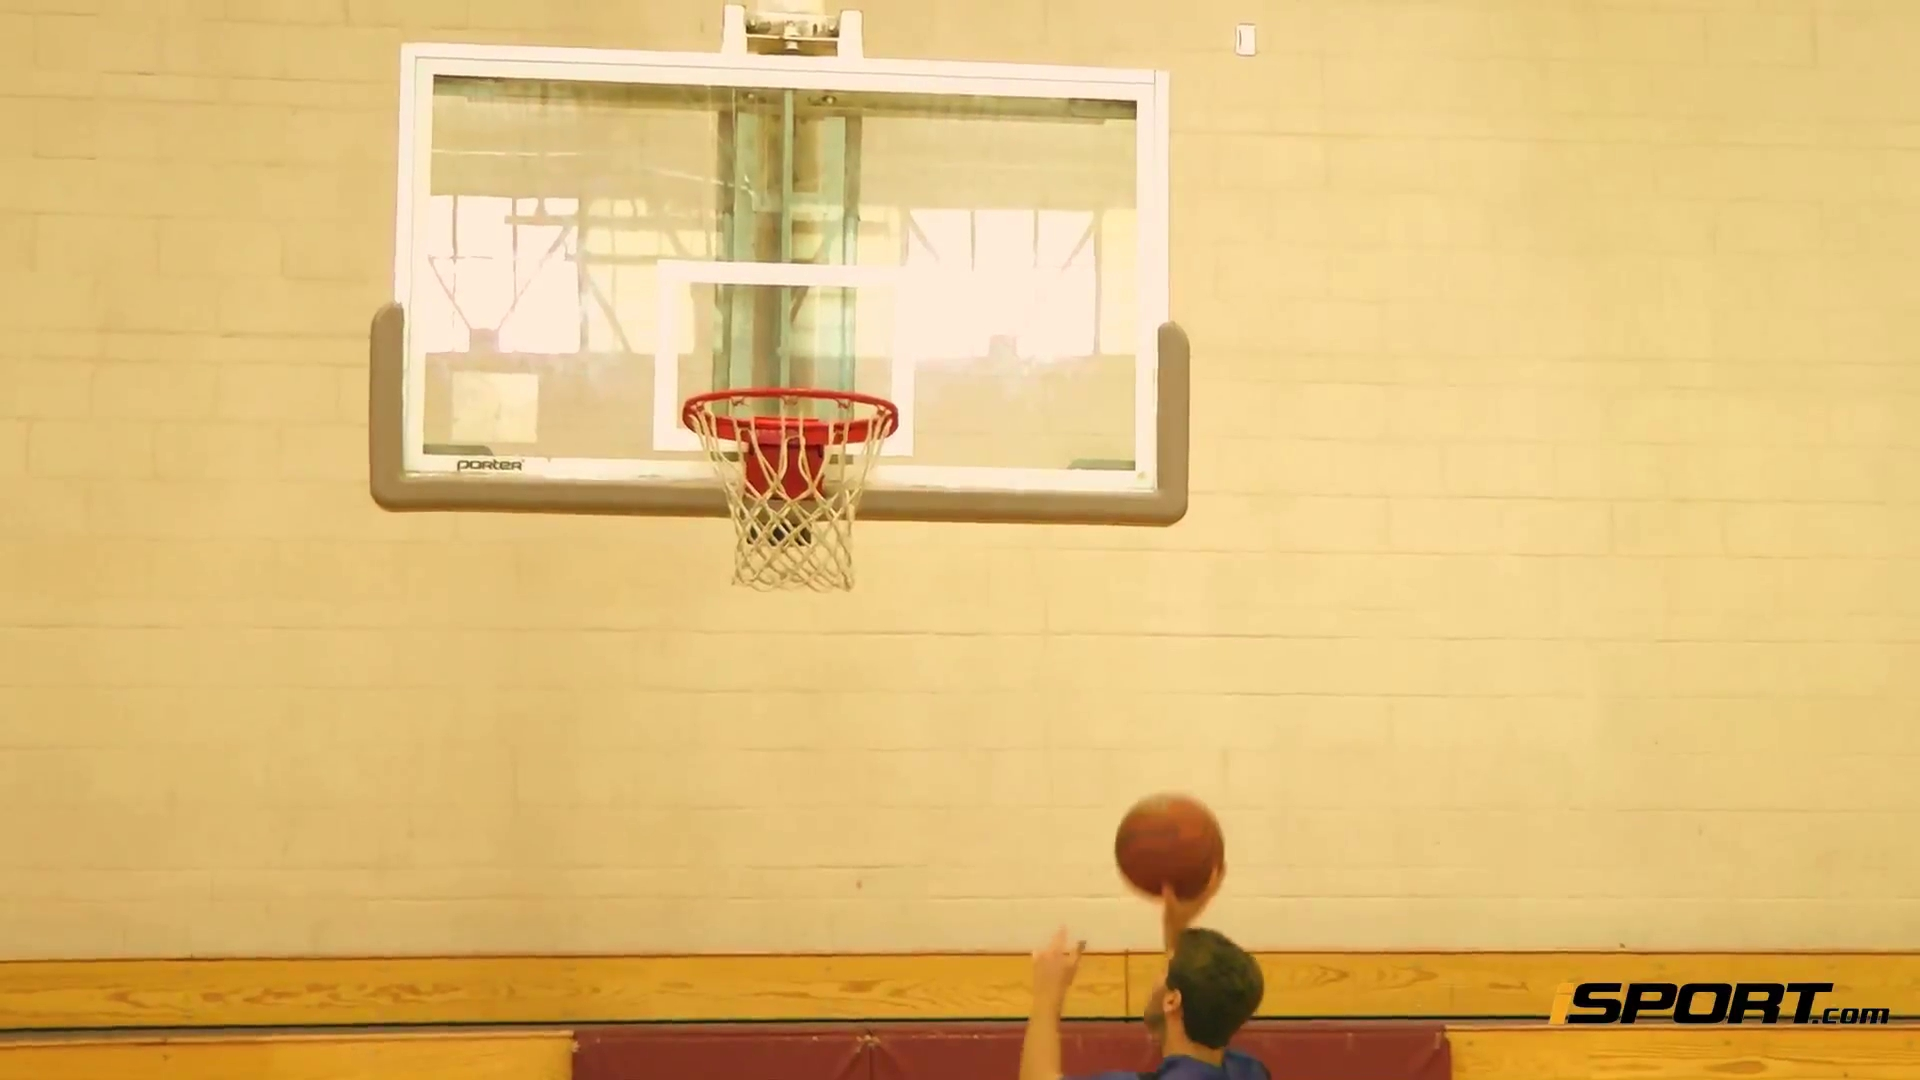person: (1017, 861, 1271, 1080)
